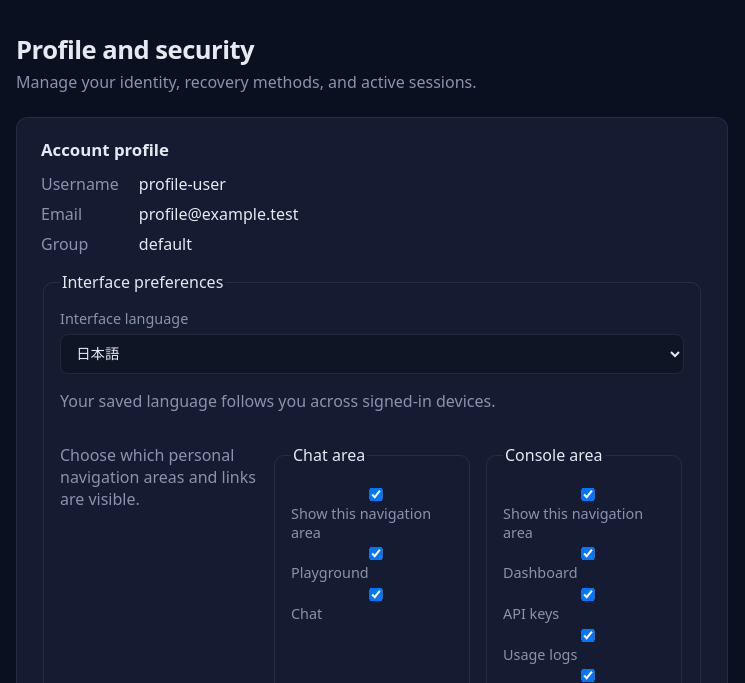
Test: ProfileView › persists language and bounded personal navigation choices
Expected: the text "profile@example.test" is shown, x1=139 y1=203 x2=298 y2=225
Select "繁體中文" in the dropdown labelled "Interface language" at point(372, 354), box x1=60 y1=334 x2=684 y2=374
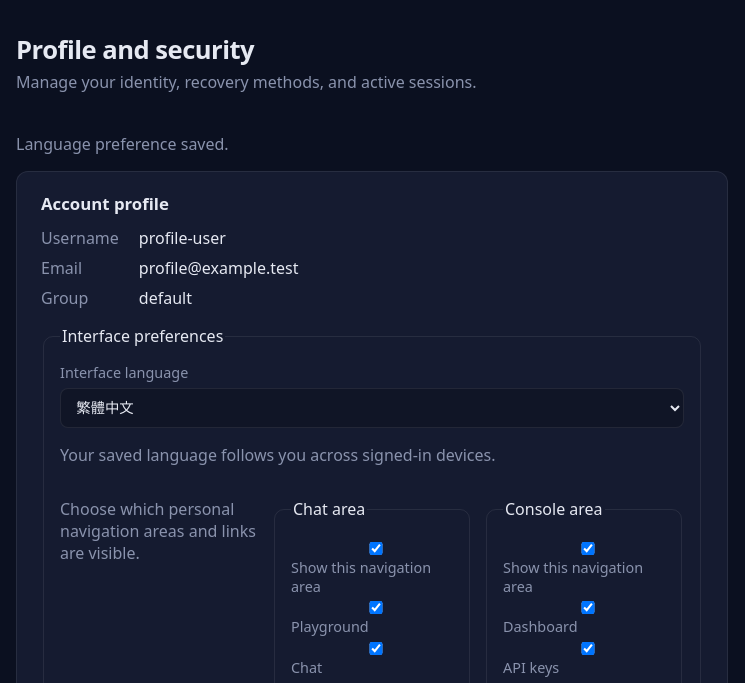
Now the text "Language preference saved." is shown, box x1=16 y1=133 x2=229 y2=155
Click the checkbox labelled "Playground" at point(376, 608), box x1=295 y1=601 x2=457 y2=614
(page scrolled)
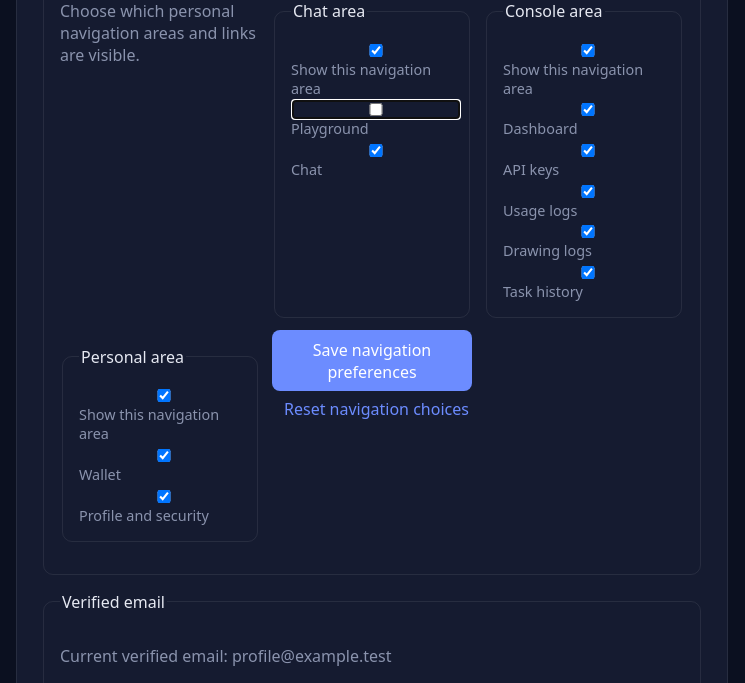
Click the button "Save navigation preferences" at point(372, 361), box x1=272 y1=330 x2=472 y2=391
(page scrolled)
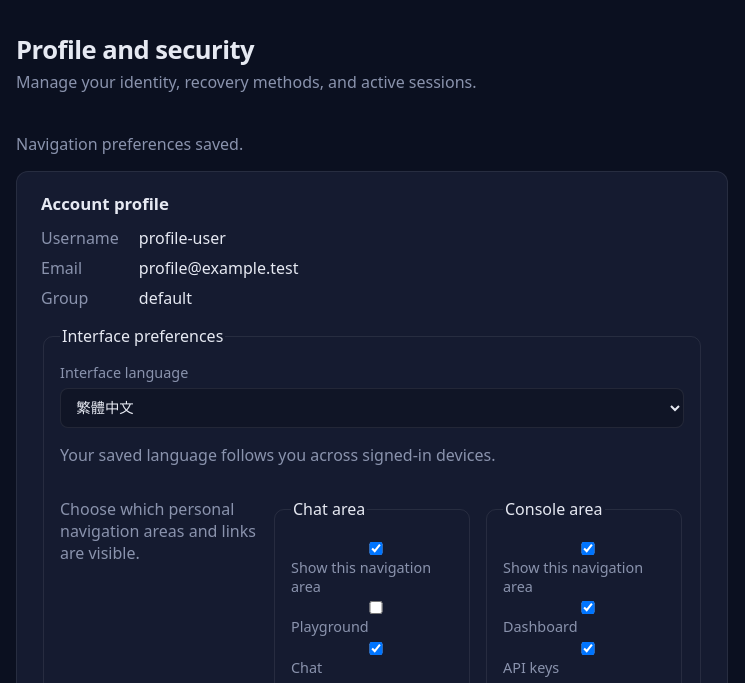
Now the text "Navigation preferences saved." is shown, box x1=16 y1=133 x2=243 y2=155
